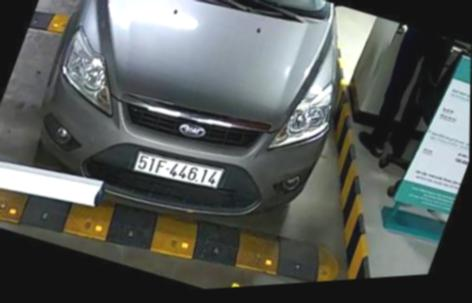License_Plate: (129, 142, 238, 201)
